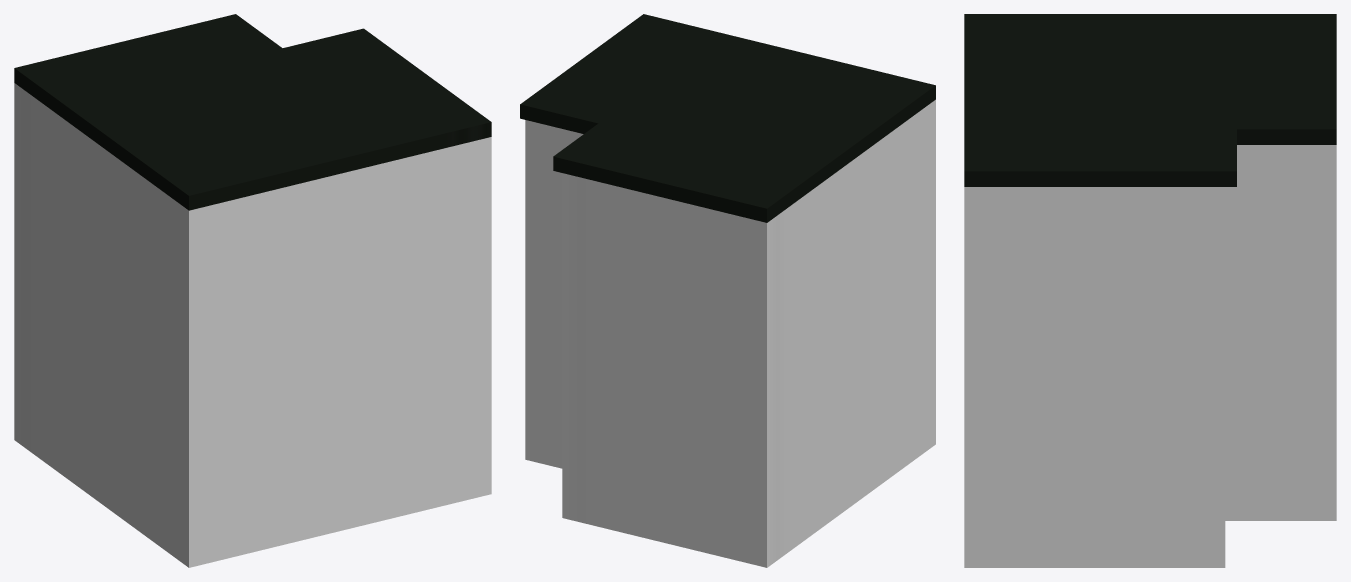
File: CabinetECorner01.glb
3 renders of one model, left to right at view 1: azimuth 30°, elevation 25°; view 2: azimuth 150°, elevation 25°; view 3: azimuth 270°, elevation 25°, orthographic. The views are drawn at different scales.
Parts seen in each view (by area): view 1: CabinetECorner01_model; view 2: CabinetECorner01_model; view 3: CabinetECorner01_model.
Part boxes in pixels (x1,y1,x2,y2): CabinetECorner01_model: (14, 14, 491, 567); CabinetECorner01_model: (520, 14, 935, 567); CabinetECorner01_model: (964, 14, 1336, 567).
Bounding box in the file's own units: 1.72 × 2.02 × 1.72.
1 material, 1 textured.
